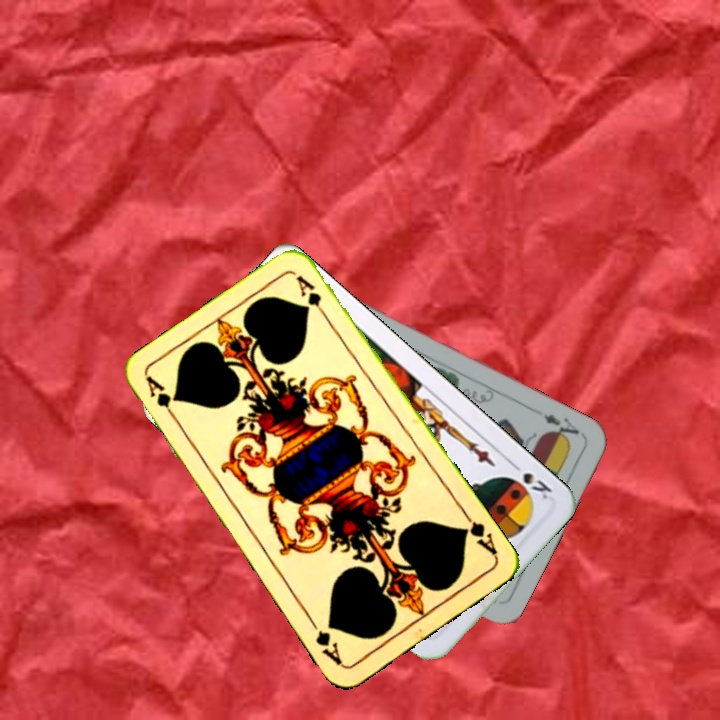EA: (539, 410, 582, 445)
GA: (456, 507, 501, 559), (142, 373, 182, 426)
SK: (506, 457, 555, 502)
